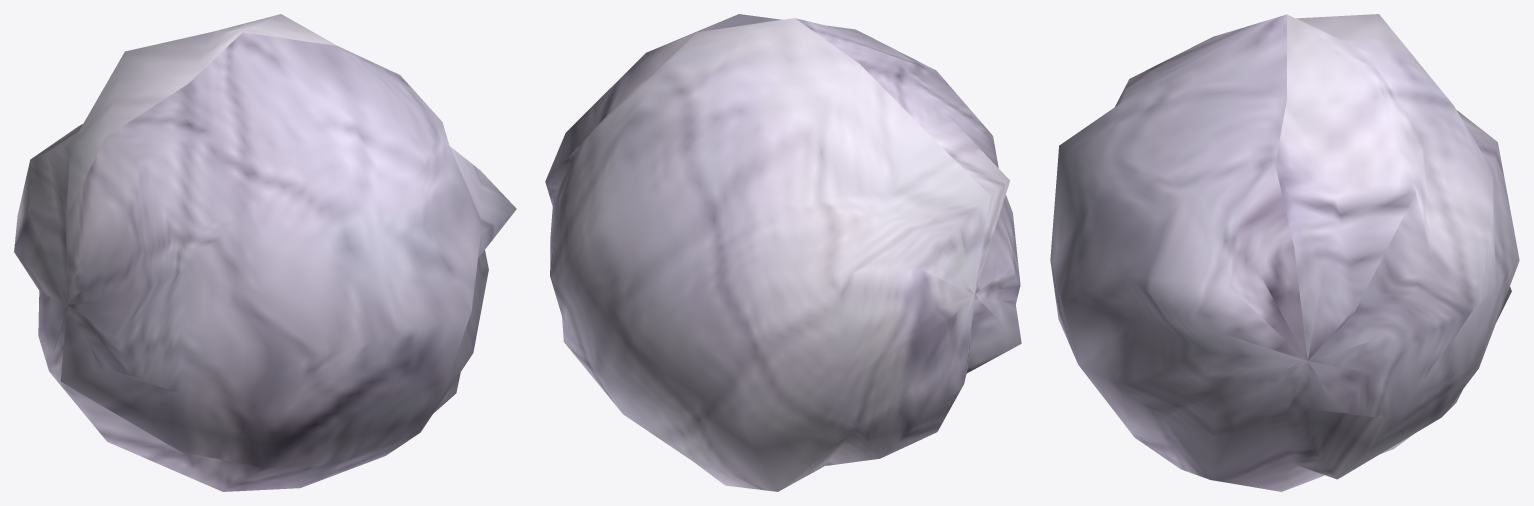
The model's file is boulette.fbx.
3 renders of one model, left to right at view 1: azimuth 30°, elevation 25°; view 2: azimuth 150°, elevation 25°; view 3: azimuth 270°, elevation 25°, orthographic.
Visible parts, largest first — view 1: Sphere001; view 2: Sphere001; view 3: Sphere001.
Part boxes in pixels (x1,y1,x2,y2): Sphere001: [14, 14, 516, 491]; Sphere001: [545, 14, 1021, 491]; Sphere001: [1050, 14, 1519, 491].
Size of the model in its own units: 17.45 by 16.87 by 16.37.
Materials: 1 (1 with a texture image).
